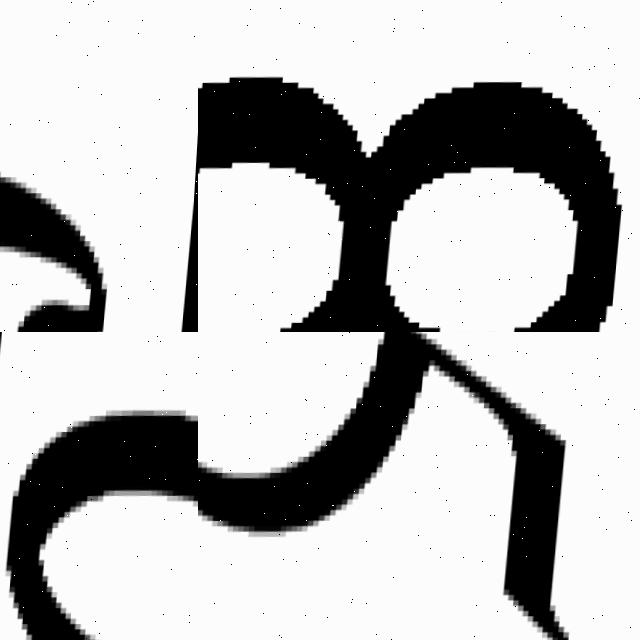5: (198, 332, 623, 640)
6: (0, 389, 198, 640)
8: (198, 52, 640, 332)
F: (0, 0, 153, 332)
